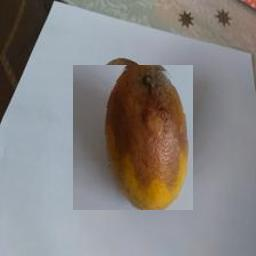Orange Semirotten: (73, 65, 193, 210)
